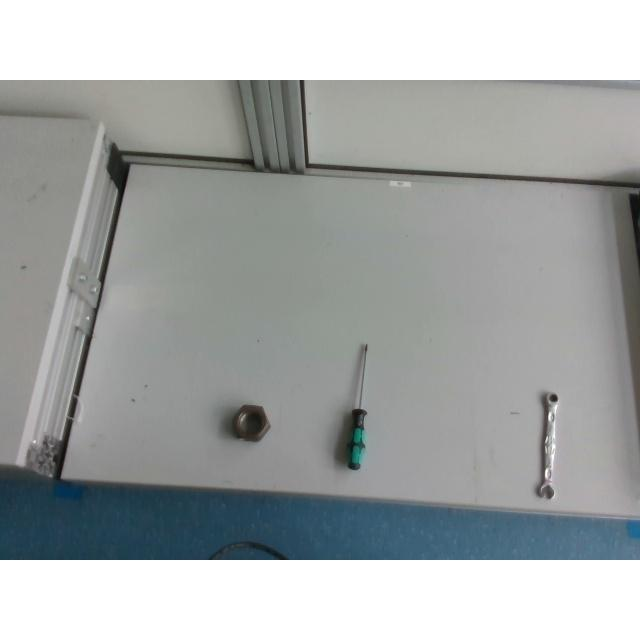M30: (233, 403, 270, 441)
Screwdriver: (344, 342, 368, 470)
Wrench: (536, 392, 560, 500)
